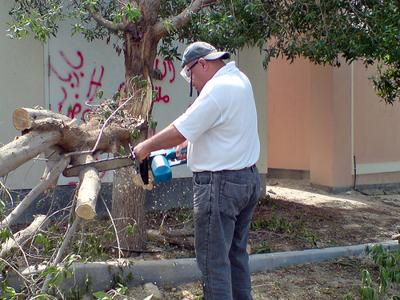person: (134, 40, 262, 300)
